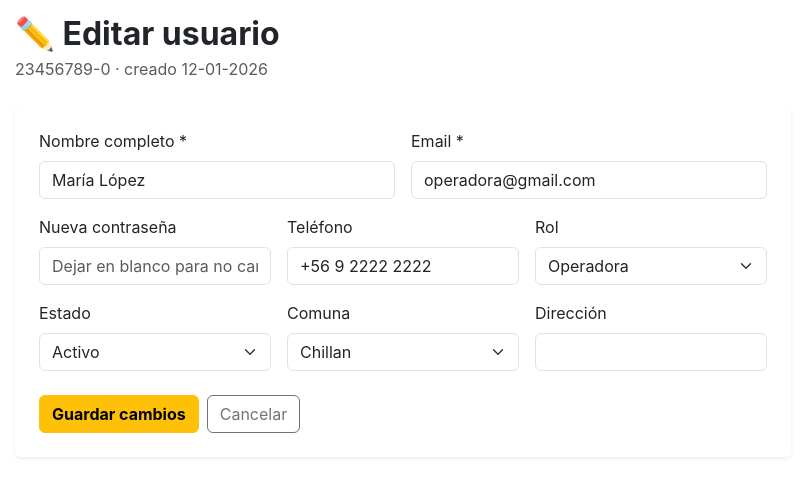
Test: UserEdit - CRUD Update usuario › valida email al editar
Replace the text in the field below "Email *" with "email-invalido": (589, 180) [411,161,767,199]
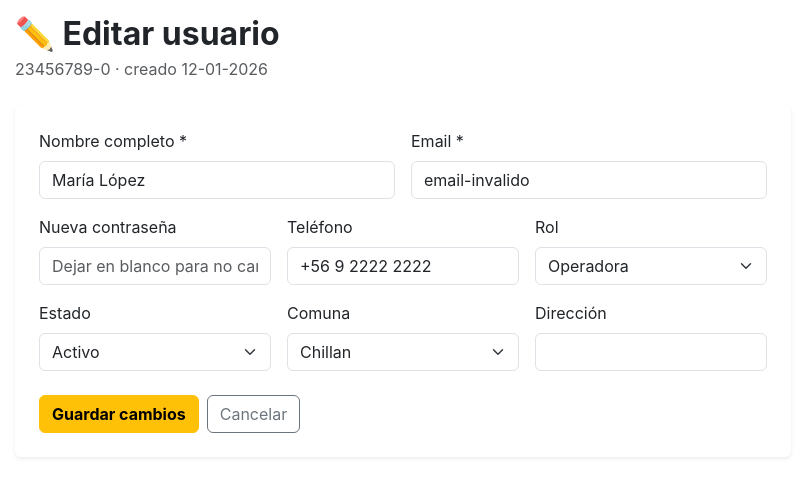
Click the button "Guardar cambios": (119, 414) [39,395,199,433]
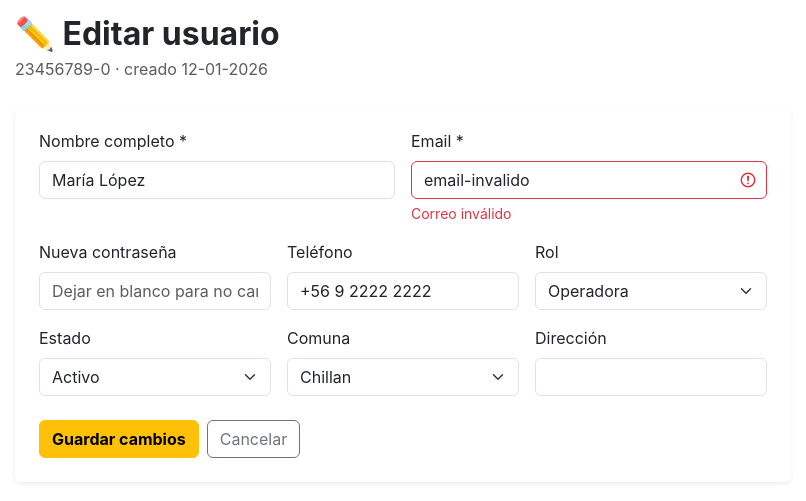
Result: the text "Correo inválido" is shown at [411,205,512,222]
